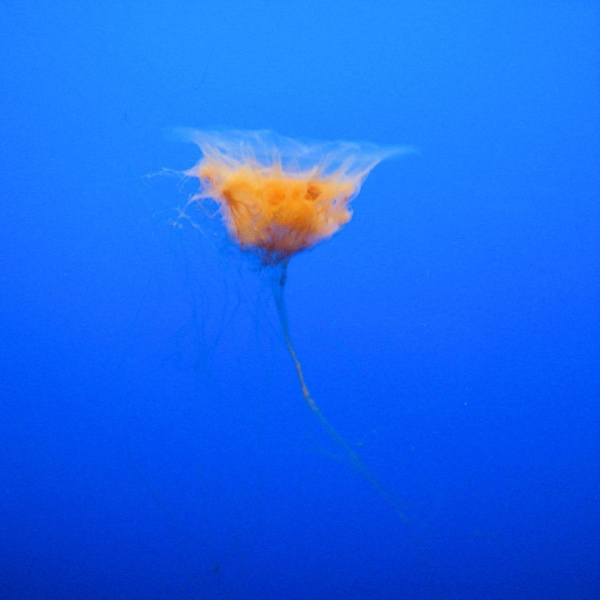Jellyfish: (155, 115, 424, 434)
